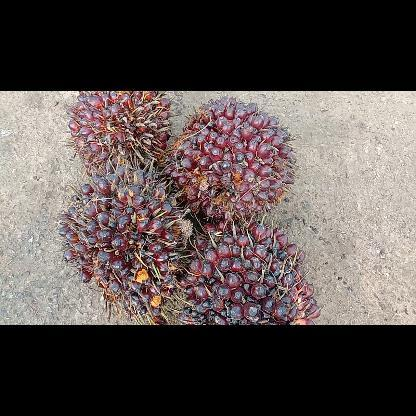Kurang masak: (54, 160, 193, 324), (176, 216, 324, 324), (64, 92, 174, 176)
TBS masak: (164, 95, 302, 228)
